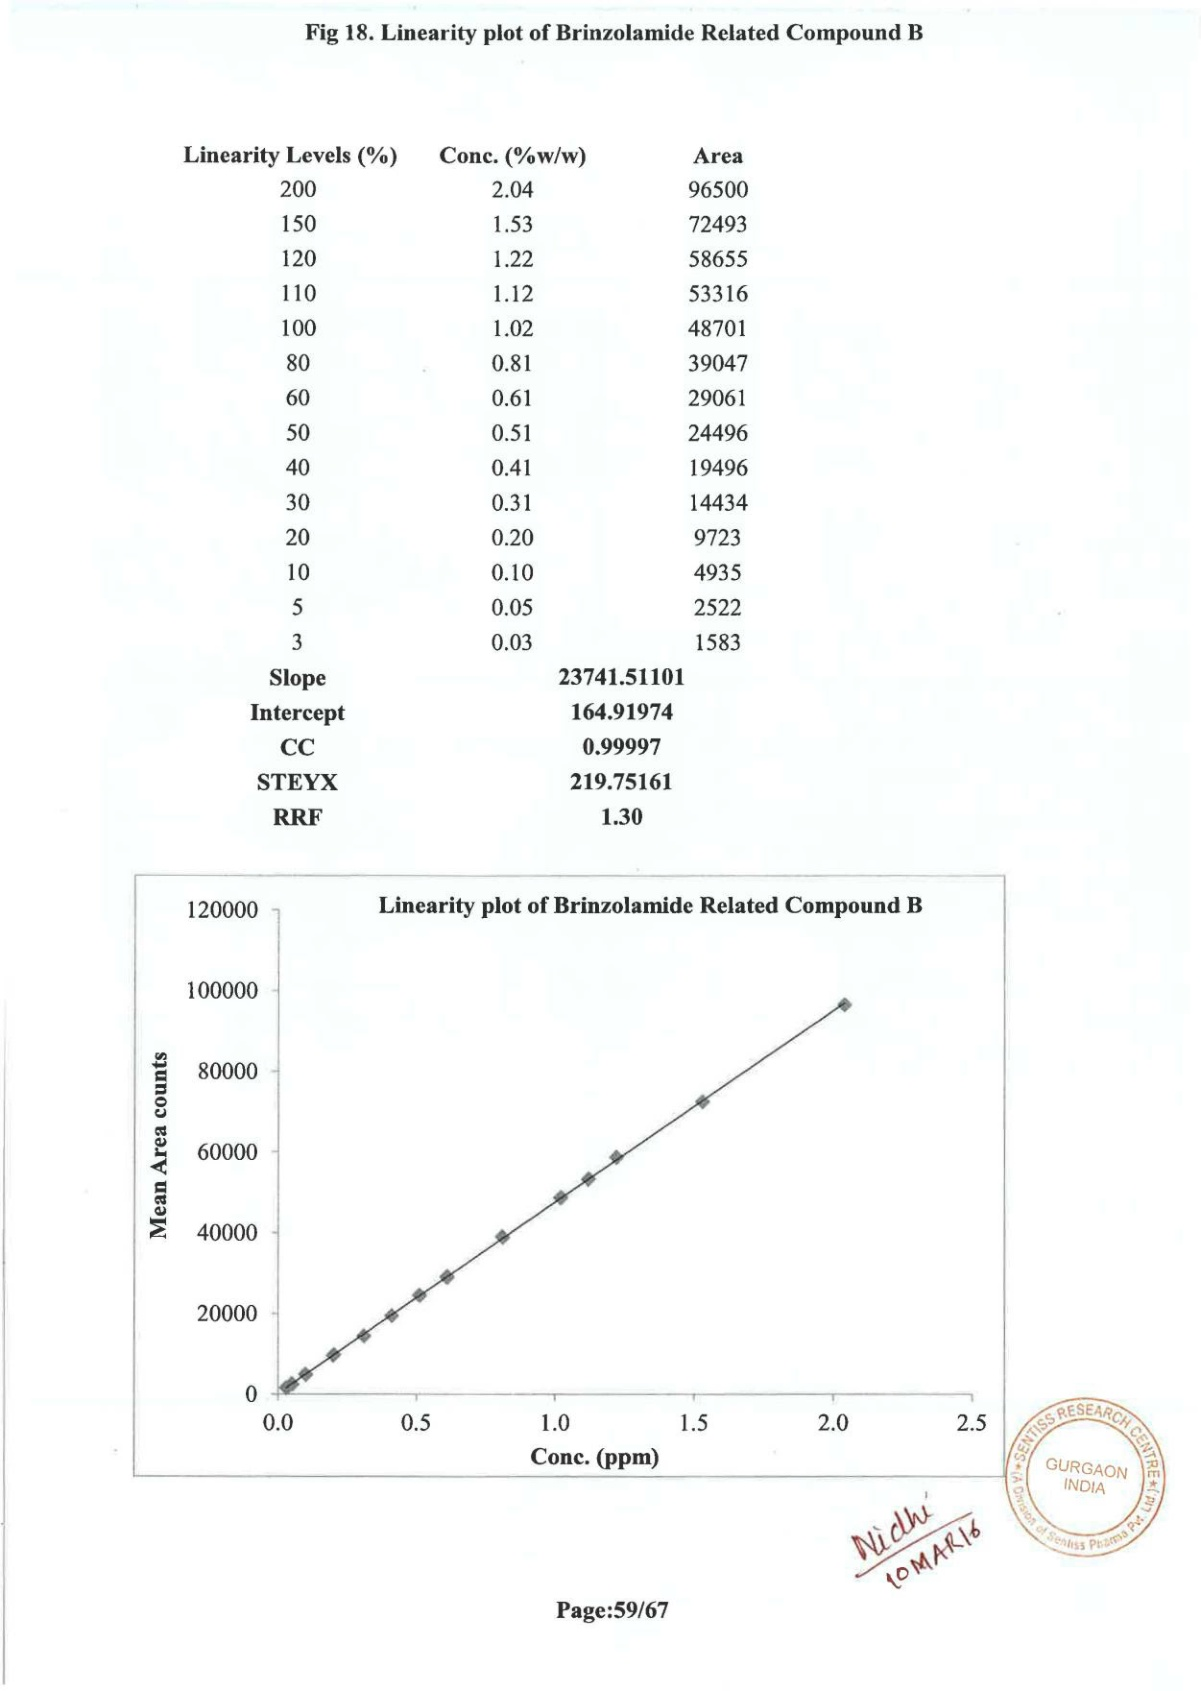nolines: (185, 142, 753, 656), (253, 668, 682, 829)
